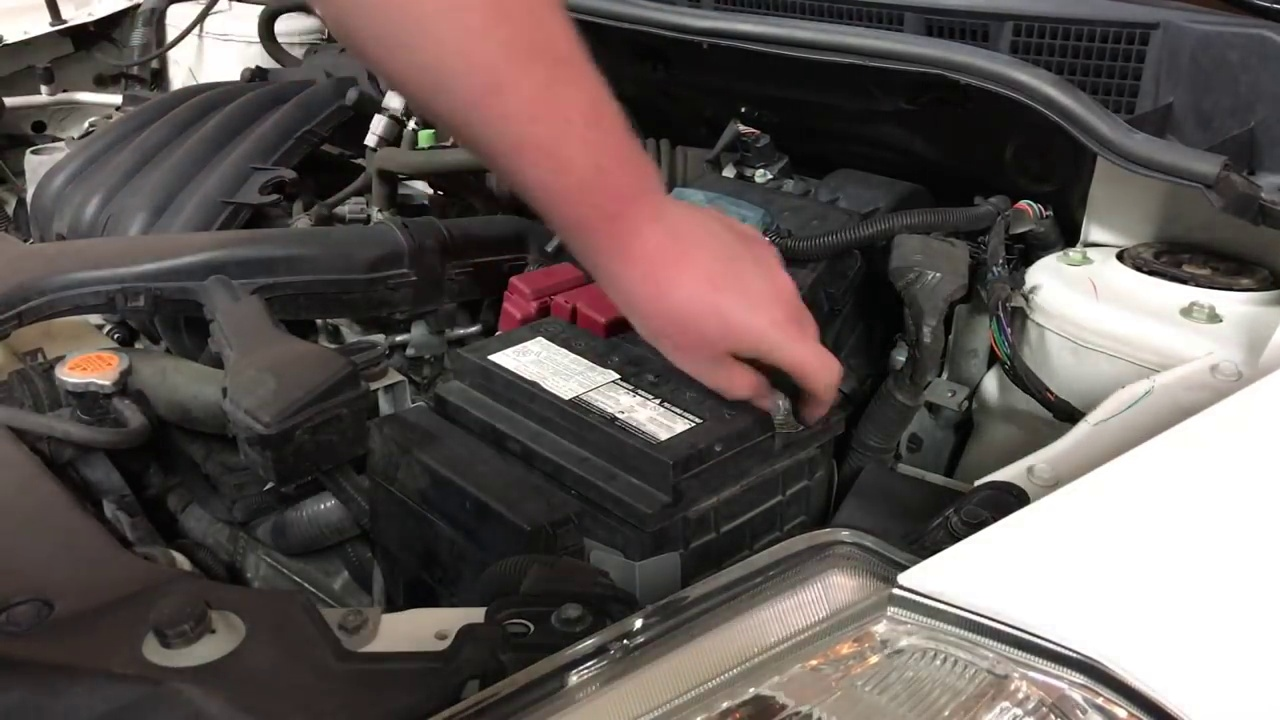battery: (453, 282, 796, 486)
neg_touched: (726, 330, 822, 452)
pos_connected: (490, 253, 620, 354)
pos_touched: (503, 207, 718, 361)
